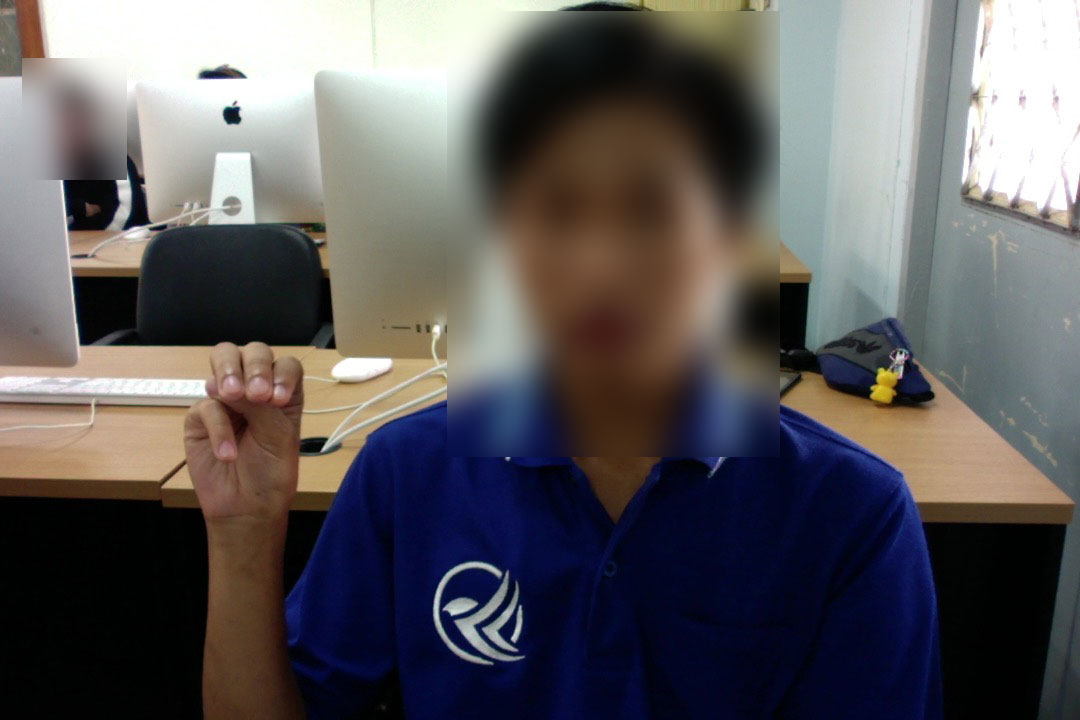mor: (177, 331, 311, 552)
